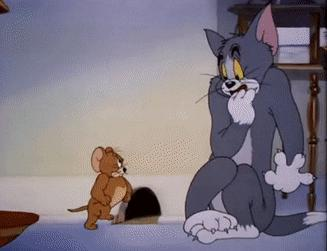jerry: (66, 146, 134, 230)
